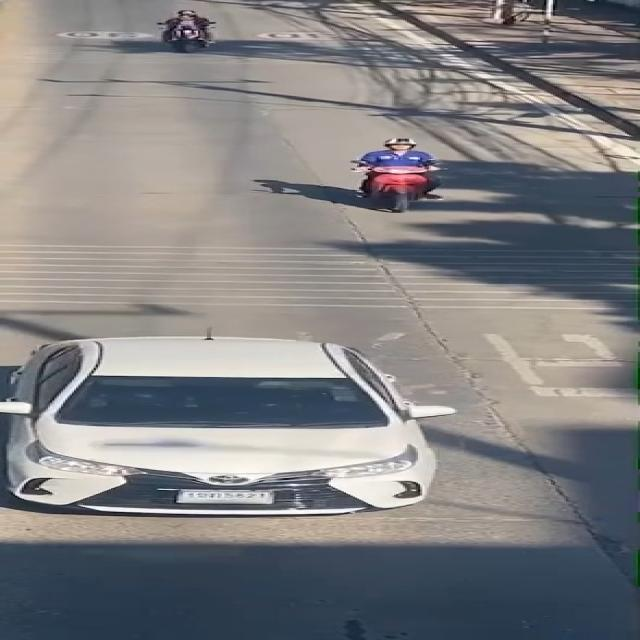car: (0, 324, 476, 537)
